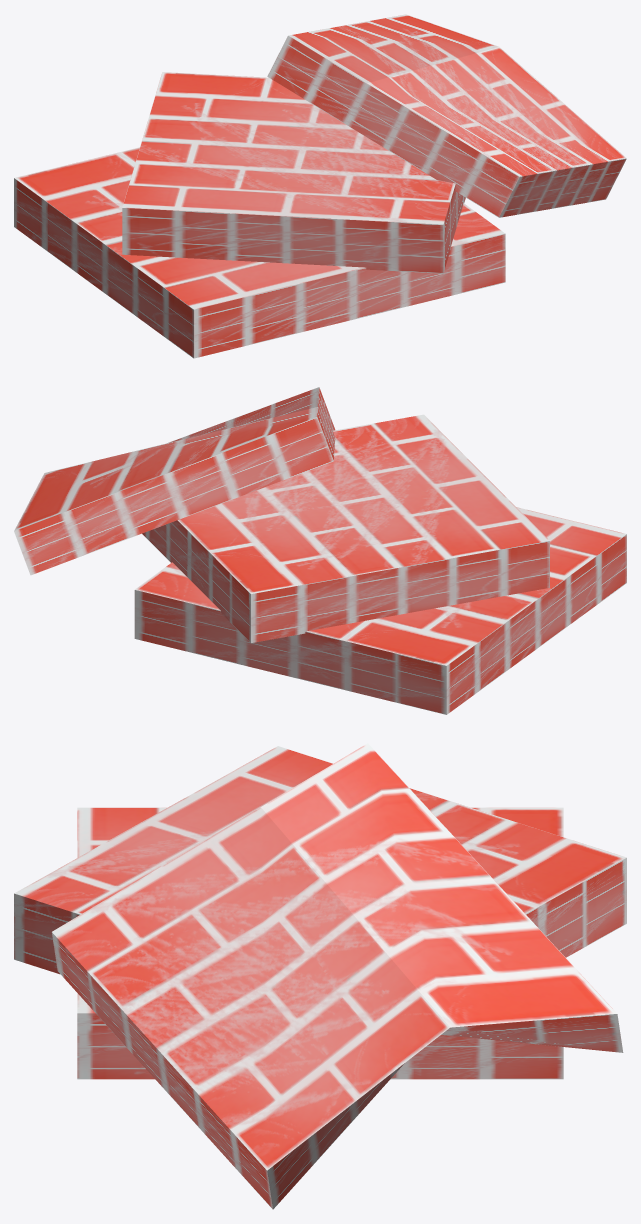
The model's file is DestroçosTijolo3.fbx.
3 renders of one model, top to bottom at view 1: azimuth 30°, elevation 25°; view 2: azimuth 150°, elevation 25°; view 3: azimuth 270°, elevation 25°, orthographic. The views are drawn at different scales.
Visible parts, largest first — view 1: Cubo.003; view 2: Cubo.003; view 3: Cubo.003.
Part boxes in pixels (x1,y1,x2,y2): Cubo.003: (14, 14, 626, 358); Cubo.003: (14, 387, 626, 714); Cubo.003: (14, 743, 626, 1209).
Bounding box in the file's own units: 215 × 84.52 × 168.
